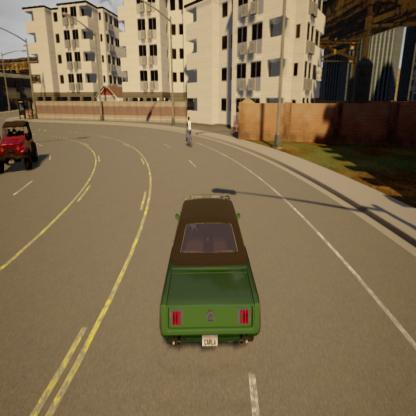Cars: (154, 184, 268, 355), (0, 112, 43, 178)
